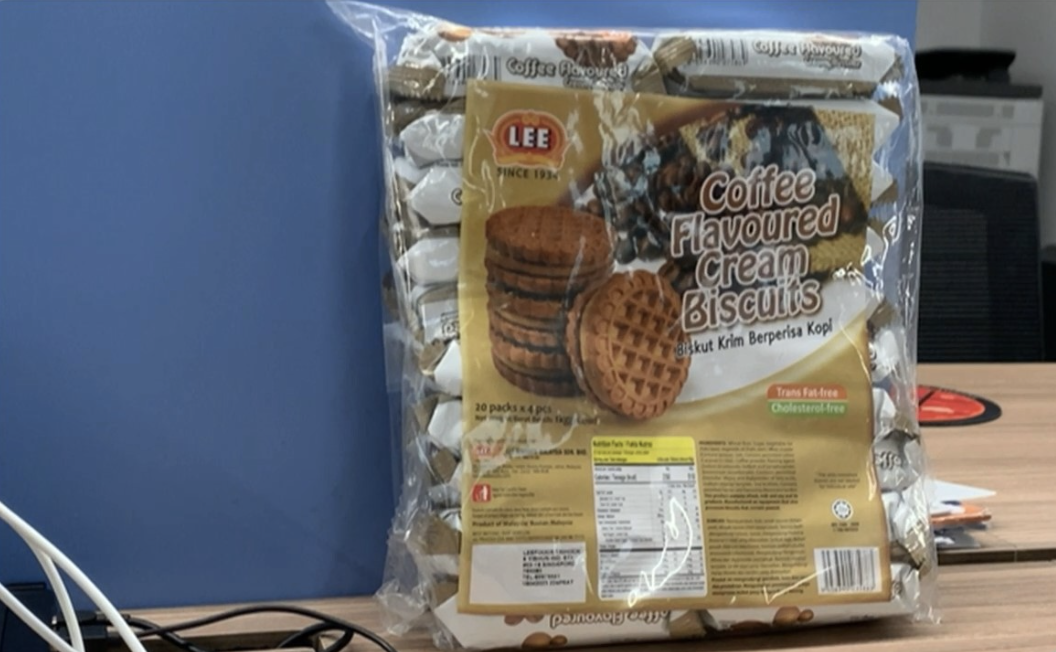cookies_1kg-1.99kg: (483, 102, 873, 596)
